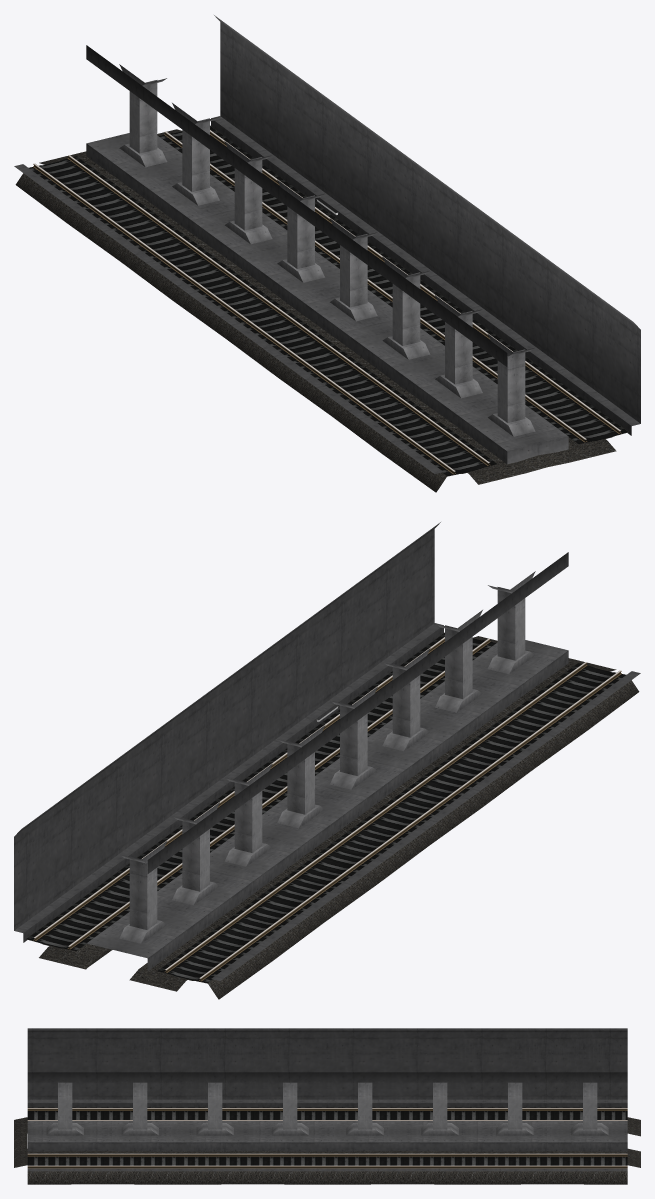
Rendered from KH_RAIL_UNDER01.glb.
3 views of the same model, one above another, from view 1: azimuth 30°, elevation 25°; view 2: azimuth 150°, elevation 25°; view 3: azimuth 270°, elevation 25° (orthographic). The views are drawn at different scales.
Visible parts, largest first — view 1: chika, bone7, bone0, bone4, bone5, bone2, bone3, bone1, bone6; view 2: chika, bone0, bone4, bone7, bone5, bone2, bone6, bone1, bone3; view 3: chika, bone5, bone4, bone3, bone2, bone1, bone0, bone7, bone6.
Part boxes in pixels (bbox=[...]): chika: bbox=[14, 15, 640, 492]; bone7: bbox=[488, 334, 535, 436]; bone0: bbox=[119, 64, 167, 167]; bone4: bbox=[316, 199, 377, 321]; bone5: bbox=[382, 257, 430, 359]; bone2: bbox=[224, 141, 272, 244]; bone3: bbox=[277, 179, 324, 282]; bone1: bbox=[172, 103, 219, 205]; bone6: bbox=[435, 295, 482, 398]; chika: bbox=[14, 522, 640, 999]; bone0: bbox=[119, 841, 166, 943]; bone4: bbox=[317, 686, 377, 789]; bone7: bbox=[487, 571, 535, 674]; bone5: bbox=[382, 648, 430, 751]; bone2: bbox=[224, 764, 272, 866]; bone6: bbox=[435, 610, 482, 712]; bone1: bbox=[172, 802, 219, 905]; bone3: bbox=[277, 725, 325, 828]; chika: bbox=[14, 1028, 640, 1184]; bone5: bbox=[196, 1082, 233, 1135]; bone4: bbox=[271, 1082, 308, 1135]; bone3: bbox=[346, 1082, 383, 1135]; bone2: bbox=[421, 1082, 458, 1135]; bone1: bbox=[496, 1082, 533, 1135]; bone0: bbox=[571, 1082, 608, 1135]; bone7: bbox=[46, 1082, 83, 1135]; bone6: bbox=[121, 1082, 158, 1135].
Size of the model in its own units: 28.3 by 16.07 by 105.
Materials: 14 (12 with a texture image).
